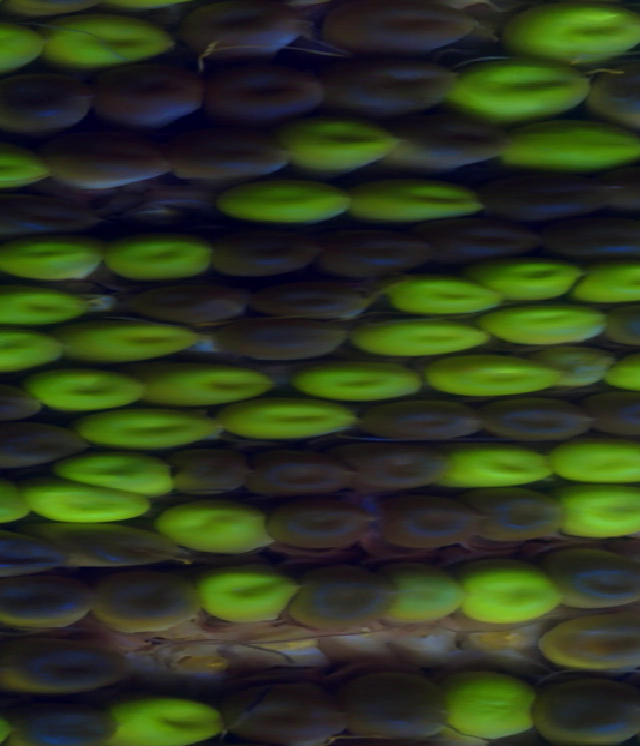fluorescent: (503, 1, 640, 72), (451, 56, 589, 125), (495, 121, 640, 176), (45, 19, 171, 79), (423, 349, 562, 400), (136, 360, 272, 412), (438, 667, 533, 738), (71, 405, 226, 448), (351, 179, 484, 228), (157, 501, 281, 553), (199, 566, 295, 628), (343, 314, 488, 355), (462, 562, 550, 629), (485, 305, 615, 350), (289, 117, 393, 173), (55, 448, 171, 498), (219, 184, 351, 226), (29, 484, 144, 531), (113, 701, 232, 746), (75, 324, 205, 365), (305, 356, 426, 398), (98, 236, 220, 277), (0, 238, 110, 283), (551, 438, 640, 490), (386, 565, 464, 624), (26, 369, 138, 410), (443, 450, 554, 491), (224, 401, 351, 435), (389, 277, 500, 315), (553, 487, 640, 535), (498, 257, 588, 301), (574, 253, 640, 308), (0, 290, 91, 328), (0, 328, 64, 372), (0, 145, 57, 193), (0, 24, 45, 79), (0, 477, 37, 524), (605, 348, 640, 397)
nonfluorescent: (0, 625, 130, 701), (324, 657, 444, 739), (308, 1, 482, 55), (217, 672, 340, 746), (320, 56, 462, 115), (180, 7, 314, 69), (92, 565, 206, 635), (534, 669, 640, 743), (287, 559, 396, 629), (389, 115, 507, 176), (190, 70, 313, 128), (51, 136, 180, 190), (97, 59, 201, 124), (248, 277, 382, 326), (527, 611, 640, 669), (321, 217, 432, 274), (245, 441, 354, 498), (466, 488, 565, 550), (51, 525, 175, 572), (479, 177, 603, 224), (0, 74, 94, 136), (0, 573, 93, 635), (476, 397, 592, 446), (170, 135, 280, 186), (4, 694, 118, 742), (213, 224, 327, 272), (435, 218, 528, 276), (352, 446, 449, 500), (359, 403, 480, 446), (262, 507, 383, 549), (383, 494, 473, 549), (166, 443, 255, 498), (218, 325, 351, 360), (551, 552, 640, 603), (0, 419, 82, 472), (0, 195, 104, 236), (135, 284, 246, 322), (589, 55, 640, 131), (544, 217, 640, 257), (0, 524, 61, 577), (593, 401, 640, 445), (607, 155, 640, 205), (0, 379, 38, 419)
